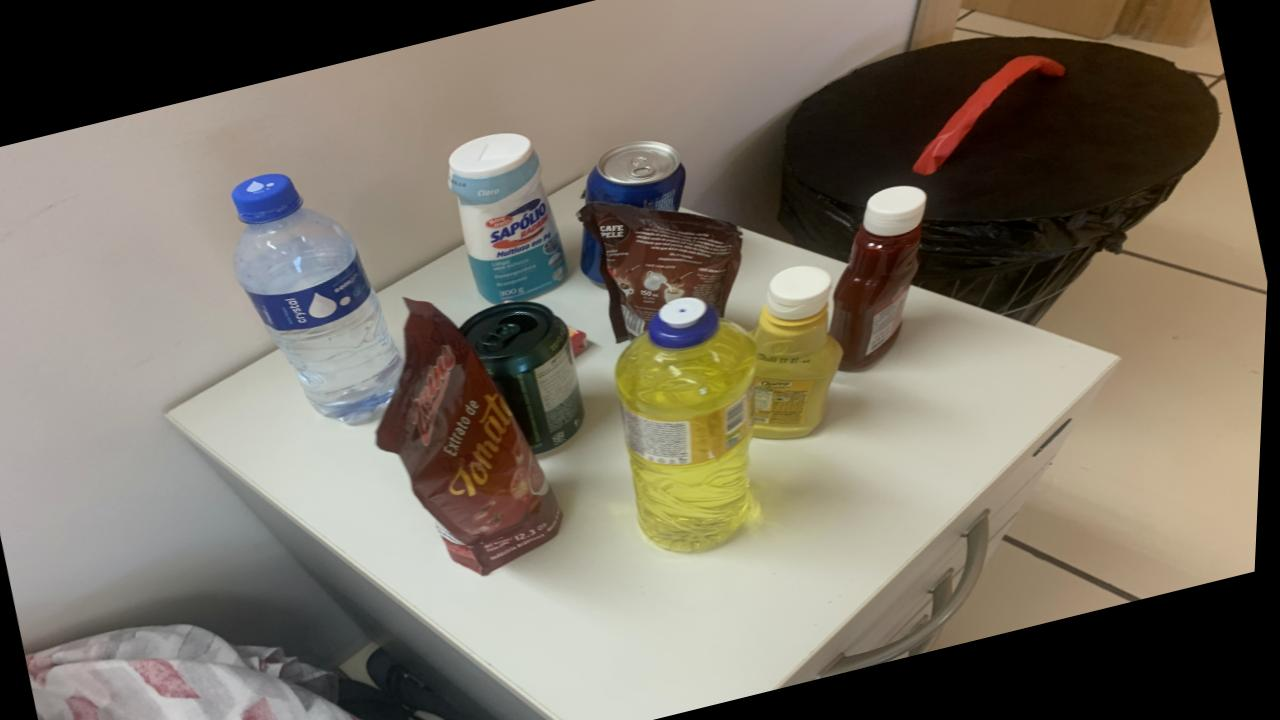Cleaner-Cleanup_Items: (449, 133, 571, 304)
Coffee-Pantry_Items: (581, 201, 745, 342)
Detergent-Cleanup_Items: (618, 297, 760, 553)
Guarana_Can-Drinks: (464, 301, 590, 454)
Ketchup-Pantry_Items: (832, 185, 929, 372)
Mustard-Pantry_Items: (755, 265, 846, 439)
Tomato_Sauce-Pantry_Items: (380, 298, 568, 575)
Tonic-Drinks: (586, 140, 688, 212), (583, 232, 606, 284)
Water_Bottle-Drinks: (233, 173, 407, 424)
